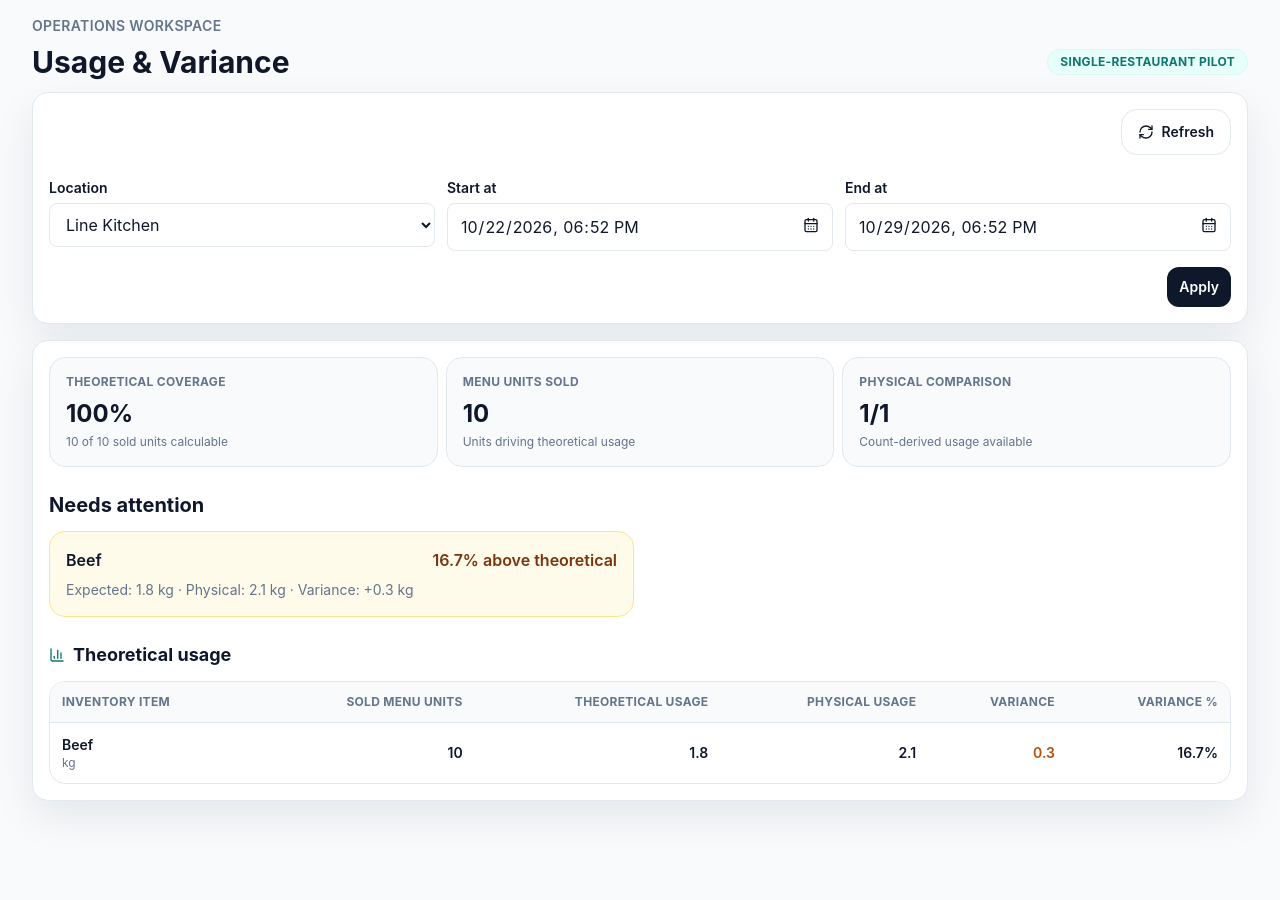
Test case: PilotSquareUsagePage › shows the backend stock-count basis and equations when a variance row is opened
Click the text "Beef" below "Inventory item".
click(78, 744)  # box [62, 736, 93, 753]
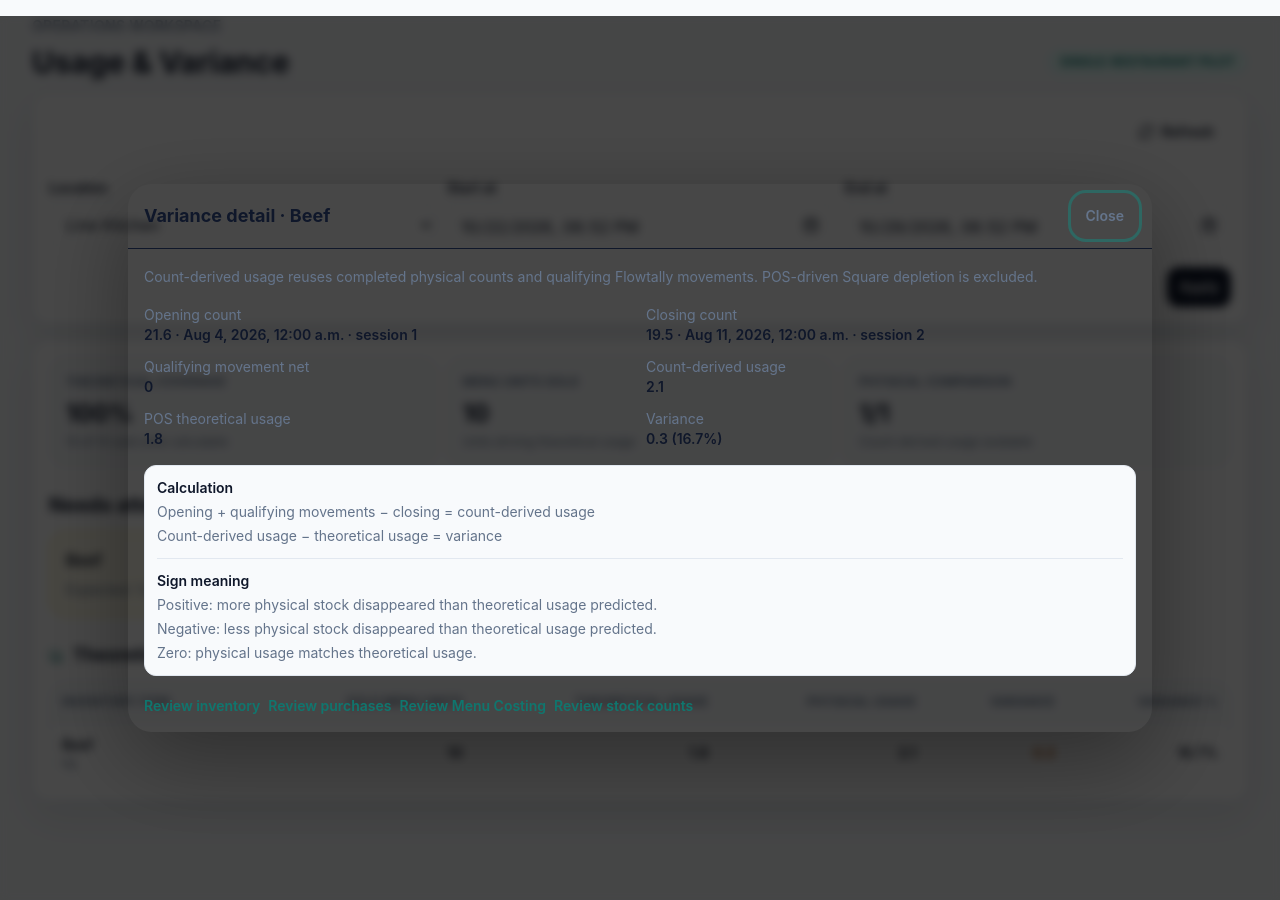
Expected: the dialog is shown, [128, 184, 1152, 732]
Expected: the text "Opening count" is shown, [144, 306, 241, 323]
Expected: the text "Closing count" is shown, [646, 306, 737, 323]
